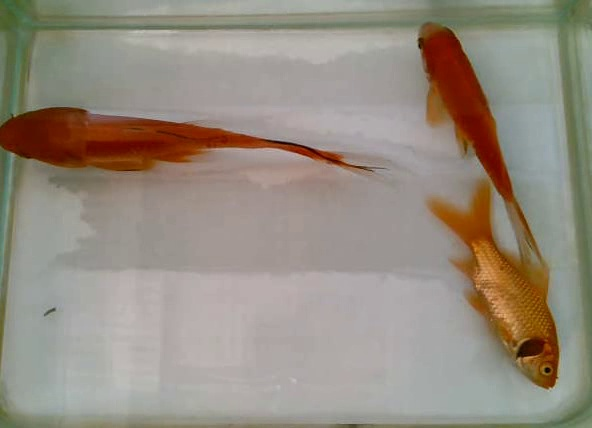alive_fish: (2, 97, 397, 192), (409, 14, 550, 278)
dead_fish: (422, 176, 566, 394)
